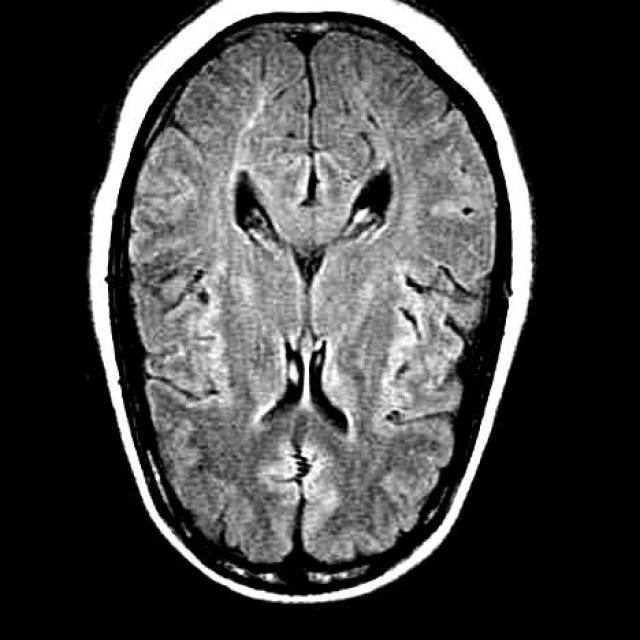notumor: (89, 9, 533, 608)
